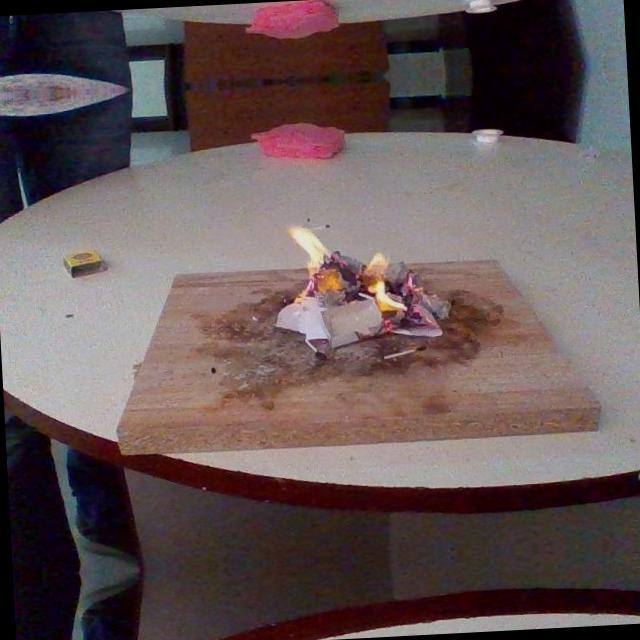fire: (260, 206, 418, 370)
